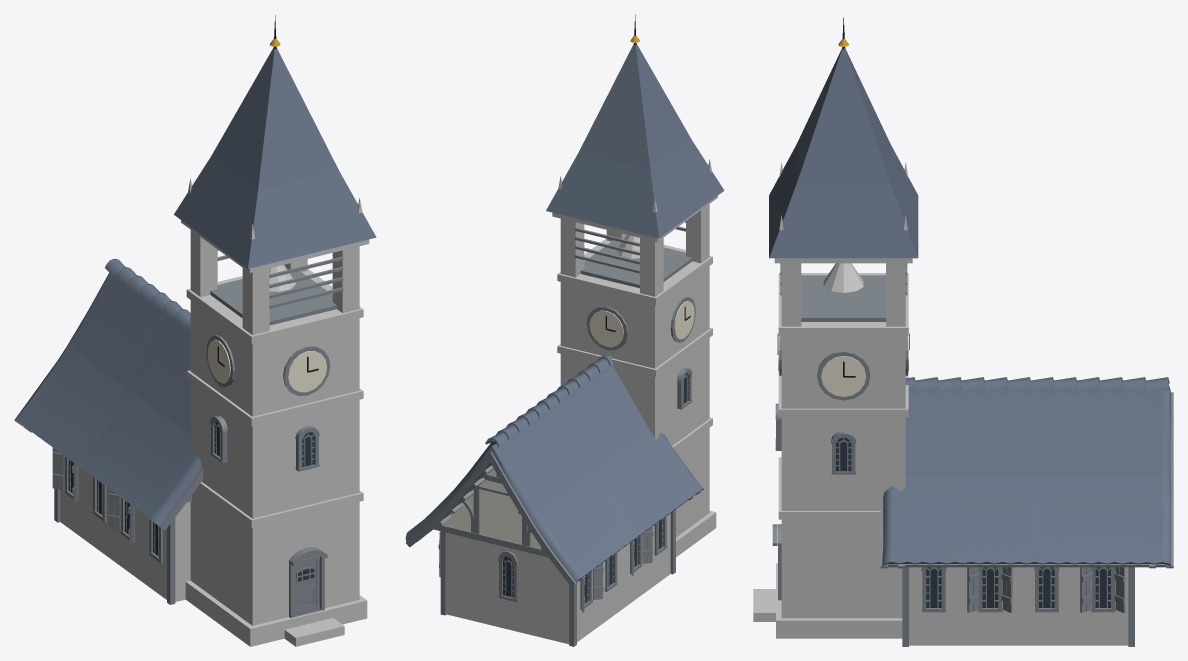
Rendered from clock_tower.gltf.
3 views of the same model, side by side, from view 1: azimuth 30°, elevation 25°; view 2: azimuth 150°, elevation 25°; view 3: azimuth 270°, elevation 25° (orthographic). The views are drawn at different scales.
Parts seen in each view (by area): view 1: Tower.002, Roof_RoundTiles_6x8.081, Spire.043, TowerPlinth.001, Course.005, BelfryFloor.032, Course.004, Pier.028, Course.003, Pier.030, Pier.029, Door_1_Round.007 (+17 smaller); view 2: Roof_RoundTiles_6x8.081, Spire.043, Tower.002, Roof_Front_Brick6.082, Wall_UnevenBrick_Straight.070, Wall_UnevenBrick_Straight.073, Wall_UnevenBrick_Window_Thin_Round.071, Course.005, BelfryFloor.032, Pier.029, Course.004, Pier.031 (+16 smaller); view 3: Roof_RoundTiles_6x8.081, Tower.002, Spire.043, Wall_UnevenBrick_Window_Thin_Round.065, BelfryFloor.032, Wall_UnevenBrick_Window_Thin_Round.060, TowerPlinth.001, Wall_UnevenBrick_Window_Thin_Round.062, Wall_UnevenBrick_Window_Thin_Round.067, Course.005, Course.004, ClockFace.017 (+14 smaller).
Part boxes in pixels (x1=…): Tower.002: x1=190, y1=300, x2=359, y2=625; Roof_RoundTiles_6x8.081: x1=14, y1=259, x2=203, y2=530; Spire.043: x1=174, y1=48, x2=376, y2=268; TowerPlinth.001: x1=185, y1=580, x2=367, y2=646; Course.005: x1=186, y1=269, x2=363, y2=344; BelfryFloor.032: x1=210, y1=269, x2=336, y2=325; Course.004: x1=186, y1=370, x2=363, y2=425; Pier.028: x1=242, y1=268, x2=269, y2=335; Course.003: x1=197, y1=481, x2=363, y2=527; Pier.030: x1=332, y1=246, x2=359, y2=312; Pier.029: x1=190, y1=230, x2=217, y2=296; Door_1_Round.007: x1=294, y1=555, x2=319, y2=615; Roof_RoundTiles_6x8.081: x1=405, y1=355, x2=703, y2=586; Spire.043: x1=546, y1=44, x2=724, y2=238; Tower.002: x1=560, y1=266, x2=709, y2=537; Roof_Front_Brick6.082: x1=433, y1=465, x2=548, y2=557; Wall_UnevenBrick_Straight.070: x1=446, y1=533, x2=487, y2=624; Wall_UnevenBrick_Straight.073: x1=530, y1=553, x2=569, y2=644; Wall_UnevenBrick_Window_Thin_Round.071: x1=487, y1=542, x2=530, y2=634; Course.005: x1=557, y1=238, x2=712, y2=304; BelfryFloor.032: x1=580, y1=238, x2=692, y2=288; Pier.029: x1=640, y1=238, x2=663, y2=296; Course.004: x1=557, y1=328, x2=712, y2=376; Pier.031: x1=560, y1=218, x2=584, y2=277; Roof_RoundTiles_6x8.081: x1=880, y1=377, x2=1173, y2=568; Tower.002: x1=781, y1=335, x2=905, y2=618; Spire.043: x1=769, y1=48, x2=918, y2=258; Wall_UnevenBrick_Window_Thin_Round.065: x1=1018, y1=567, x2=1074, y2=645; BelfryFloor.032: x1=801, y1=275, x2=885, y2=321; Wall_UnevenBrick_Window_Thin_Round.060: x1=909, y1=567, x2=962, y2=645; TowerPlinth.001: x1=776, y1=563, x2=902, y2=638; Wall_UnevenBrick_Window_Thin_Round.062: x1=962, y1=567, x2=1018, y2=645; Wall_UnevenBrick_Window_Thin_Round.067: x1=1075, y1=567, x2=1128, y2=645; Course.005: x1=778, y1=273, x2=908, y2=335; Course.004: x1=778, y1=371, x2=908, y2=417; ClockFace.017: x1=821, y1=356, x2=866, y2=396.
Size of the model in its own units: 8.25 by 23.3 by 14.89.
